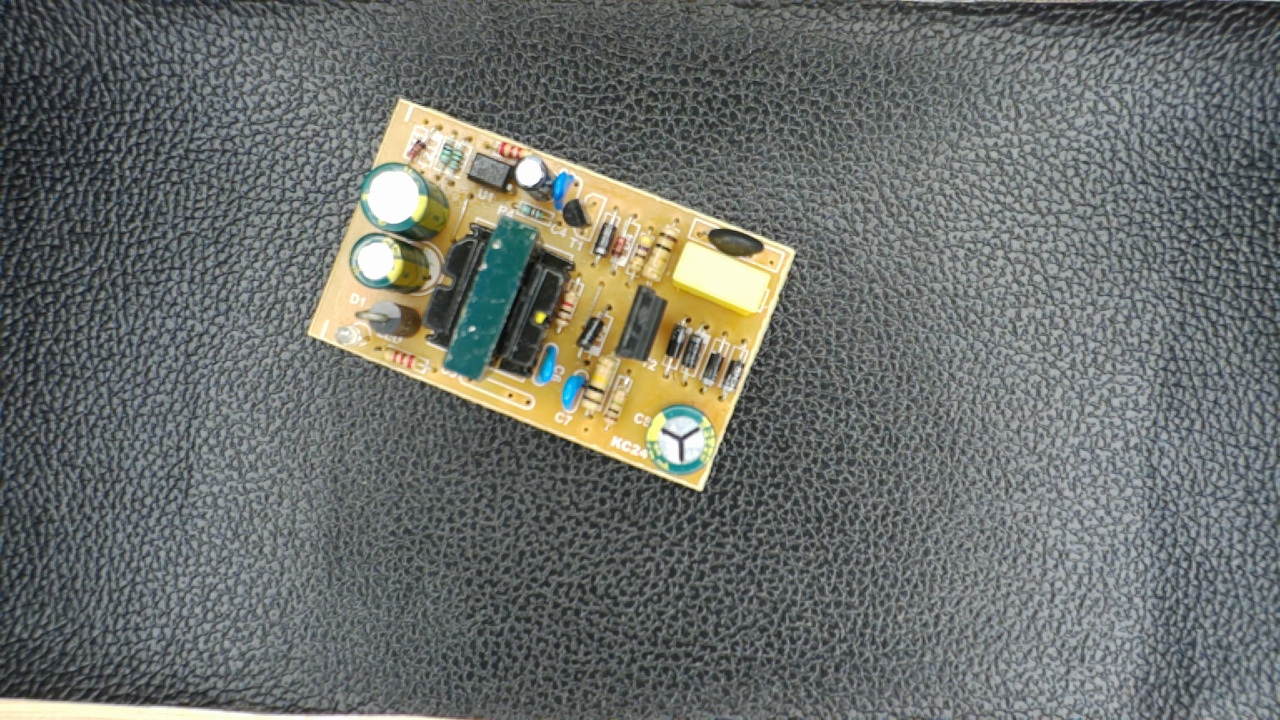fuse: (692, 219, 777, 263)
hv_capacitor: (638, 401, 722, 480)
optocoupler: (464, 144, 516, 201)
